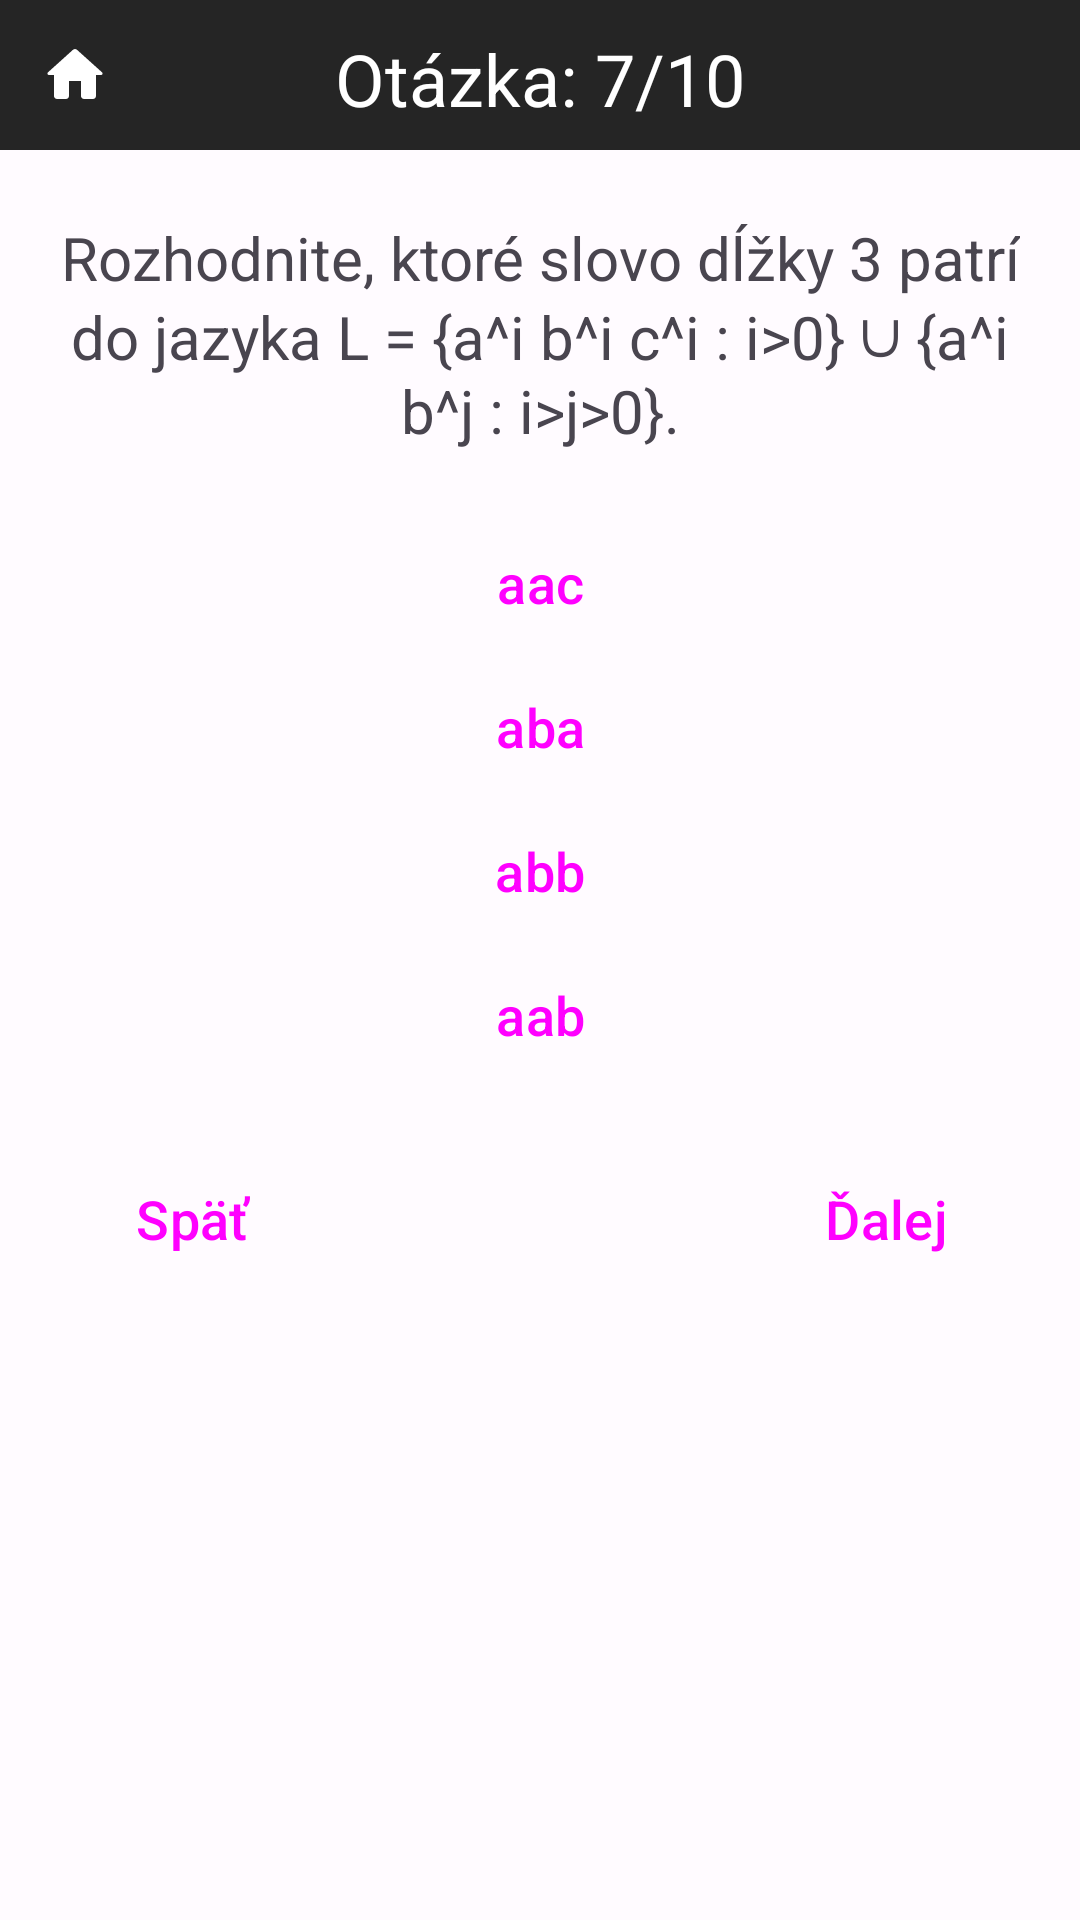

Icon click points for this 1080w x 1920h phone screenshot, format (x=x, y=y):
domov: (x=75, y=74)
